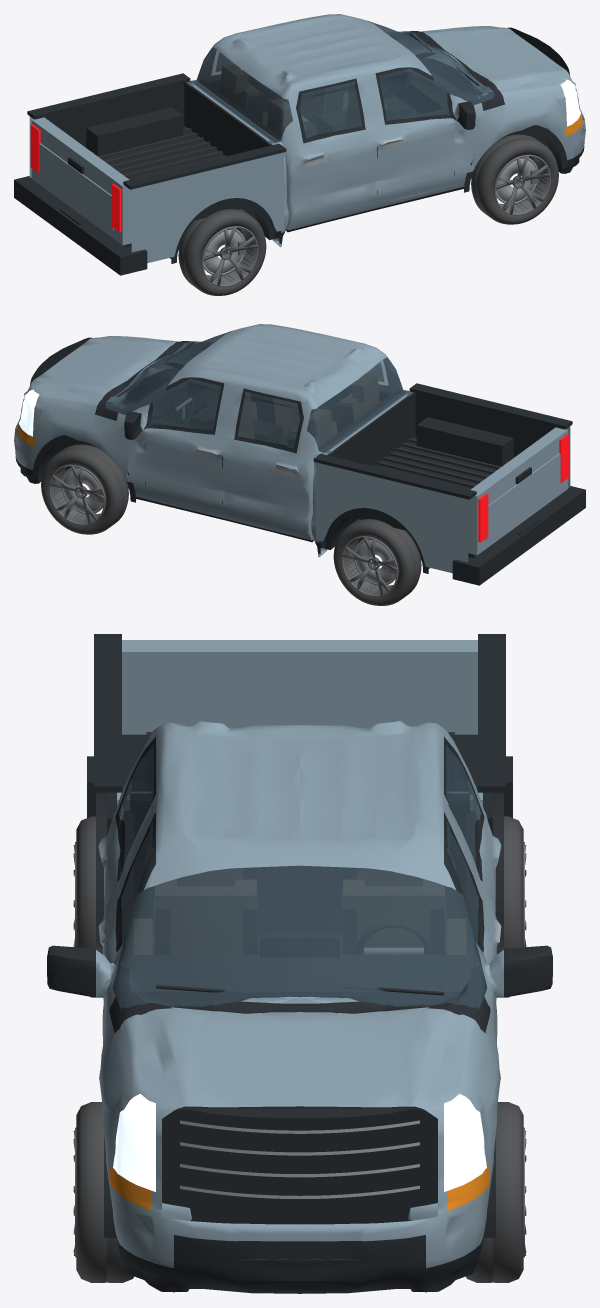
The picture shows the model from 3 angles, top to bottom: view 1: azimuth 30°, elevation 25°; view 2: azimuth 150°, elevation 25°; view 3: azimuth 270°, elevation 25°; orthographic projection. The views are drawn at different scales.
Visible parts, largest first — view 1: roof, body_shell, bed_side_right, door_rear_right, hood, wheel_front_right, wheel_rear_right, door_front_right, rear_glass, rear_bumper, tailgate, bed_inner_-1 (+39 smaller); view 2: roof, body_shell, bed_side_left, door_rear_left, hood, wheel_front_left, wheel_rear_left, door_front_left, rear_glass, rear_bumper, tailgate, bed_inner_1 (+39 smaller); view 3: windshield, roof, hood, tailgate, body_shell, front_grille, interior_dashboard, front_lower_intake, interior_bulkhead, wheel_front_left, wheel_front_right, seat_0_right_back (+32 smaller).
Boxes of the visible parts, left/top/right/bottom form: roof: left=214, top=14, right=411, bottom=96; body_shell: left=190, top=17, right=585, bottom=247; bed_side_right: left=131, top=152, right=283, bottom=263; door_rear_right: left=285, top=135, right=377, bottom=230; hood: left=403, top=26, right=572, bottom=111; wheel_front_right: left=471, top=134, right=558, bottom=224; wheel_rear_right: left=178, top=209, right=266, bottom=295; door_front_right: left=374, top=118, right=454, bottom=208; rear_glass: left=186, top=46, right=292, bottom=143; rear_bumper: left=14, top=176, right=147, bottom=275; tailgate: left=31, top=117, right=131, bottom=245; bed_inner_-1: left=36, top=83, right=184, bottom=147; roof: left=188, top=324, right=385, bottom=406; body_shell: left=14, top=327, right=409, bottom=557; bed_side_left: left=316, top=462, right=468, bottom=573; door_rear_left: left=222, top=445, right=314, bottom=540; hood: left=27, top=336, right=196, bottom=421; wheel_front_left: left=41, top=444, right=128, bottom=534; wheel_rear_left: left=333, top=519, right=421, bottom=605; door_front_left: left=145, top=428, right=225, bottom=518; rear_glass: left=307, top=356, right=413, bottom=453; rear_bumper: left=452, top=486, right=585, bottom=585; tailgate: left=468, top=427, right=568, bottom=555; bed_inner_1: left=415, top=393, right=563, bottom=457; windshield: left=113, top=865, right=486, bottom=1009; roof: left=153, top=720, right=446, bottom=864; hood: left=110, top=996, right=489, bottom=1119; tailgate: left=122, top=640, right=477, bottom=734; body_shell: left=96, top=730, right=503, bottom=1268; front_grille: left=162, top=1109, right=437, bottom=1216; interior_dashboard: left=130, top=955, right=469, bottom=1006; front_lower_intake: left=174, top=1235, right=425, bottom=1290; interior_bulkhead: left=130, top=793, right=469, bottom=934; wheel_front_left: left=466, top=1102, right=526, bottom=1282; wheel_front_right: left=73, top=1102, right=133, bottom=1282; seat_0_right_back: left=155, top=880, right=256, bottom=954.
Bounding box in the file's own units: 5.7 × 1.97 × 2.53.
